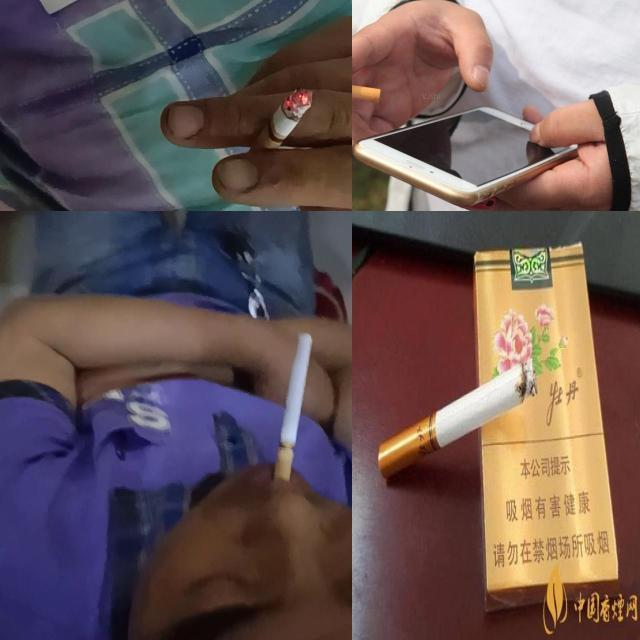smoking: (378, 358, 537, 479), (240, 87, 312, 173), (276, 336, 312, 480), (352, 72, 382, 104)
